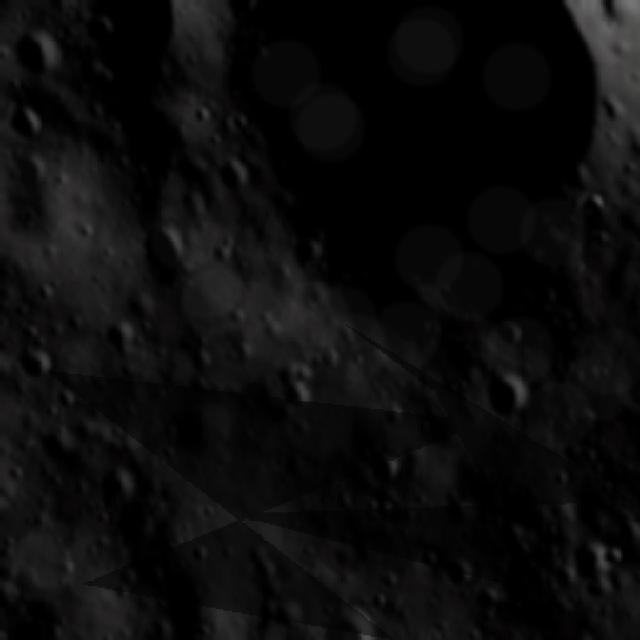crater: (248, 3, 634, 302), (109, 0, 202, 94), (167, 392, 233, 462), (134, 215, 194, 282), (476, 367, 536, 425), (15, 27, 64, 81), (312, 602, 382, 638), (32, 420, 86, 466), (270, 366, 319, 416), (360, 448, 408, 494), (487, 518, 535, 564), (168, 182, 214, 230), (6, 97, 48, 148), (566, 538, 606, 588), (95, 463, 136, 509), (217, 155, 257, 202), (5, 150, 46, 192), (122, 286, 162, 326), (15, 342, 52, 382), (288, 231, 324, 272), (362, 490, 398, 528), (81, 10, 117, 48), (109, 559, 142, 599), (445, 550, 478, 590), (488, 316, 523, 352), (578, 190, 614, 225), (468, 579, 502, 616), (134, 556, 168, 592), (220, 335, 254, 371), (182, 343, 216, 379), (253, 313, 287, 349), (104, 318, 136, 356), (251, 552, 284, 586), (274, 597, 306, 632), (85, 60, 120, 92), (561, 166, 597, 197), (207, 238, 241, 270), (376, 396, 404, 432), (227, 107, 258, 139), (416, 540, 442, 574), (492, 477, 516, 512), (551, 561, 577, 593), (601, 544, 630, 571), (186, 538, 212, 568), (184, 100, 210, 128), (544, 462, 568, 491), (53, 384, 78, 408), (584, 229, 608, 253), (57, 556, 77, 584), (536, 283, 559, 306), (580, 442, 598, 467), (349, 348, 366, 369)
